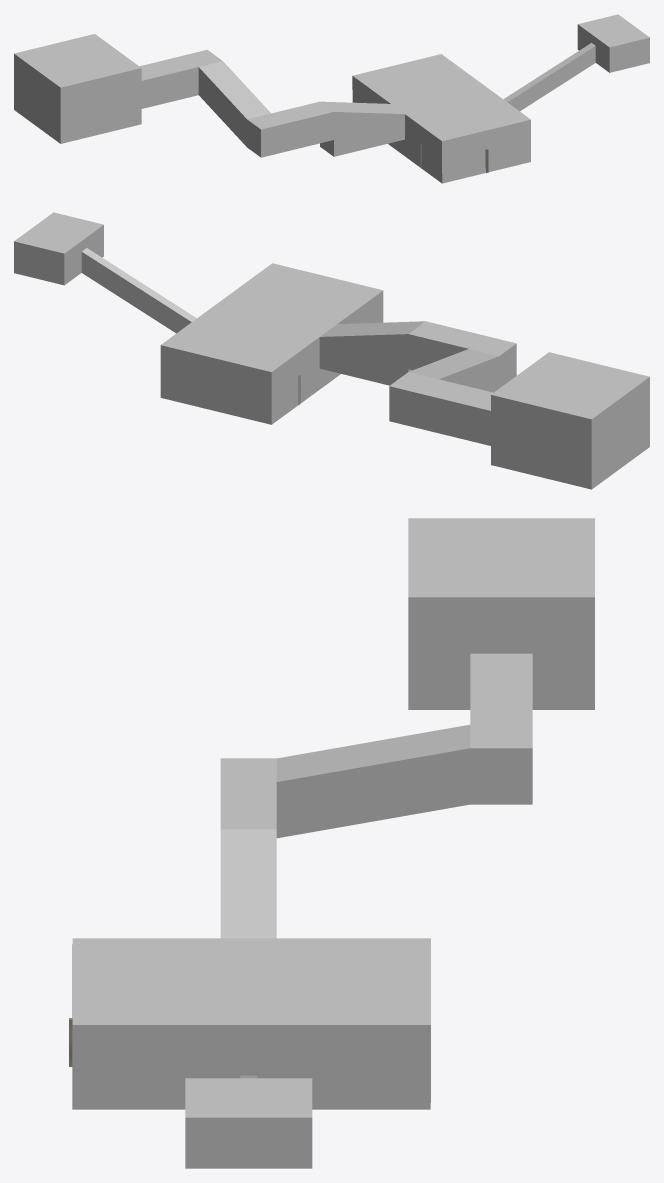
File: Portal.fbx
The picture shows the model from 3 angles, top to bottom: view 1: azimuth 30°, elevation 25°; view 2: azimuth 150°, elevation 25°; view 3: azimuth 270°, elevation 25°; orthographic projection. The views are drawn at different scales.
Parts seen in each view (by area): view 1: Portal; view 2: Portal; view 3: Portal.
Boxes of the visible parts, x1,y1,x2,y2 form: Portal: [14, 14, 649, 183]; Portal: [14, 212, 649, 489]; Portal: [69, 518, 594, 1168].
Size of the model in its own units: 6600 by 1265 by 2816.
